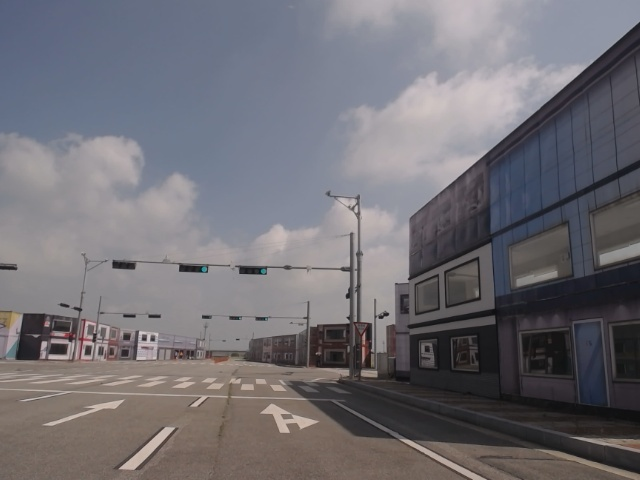straight_green_4: (178, 263, 209, 273), (238, 265, 269, 275)
